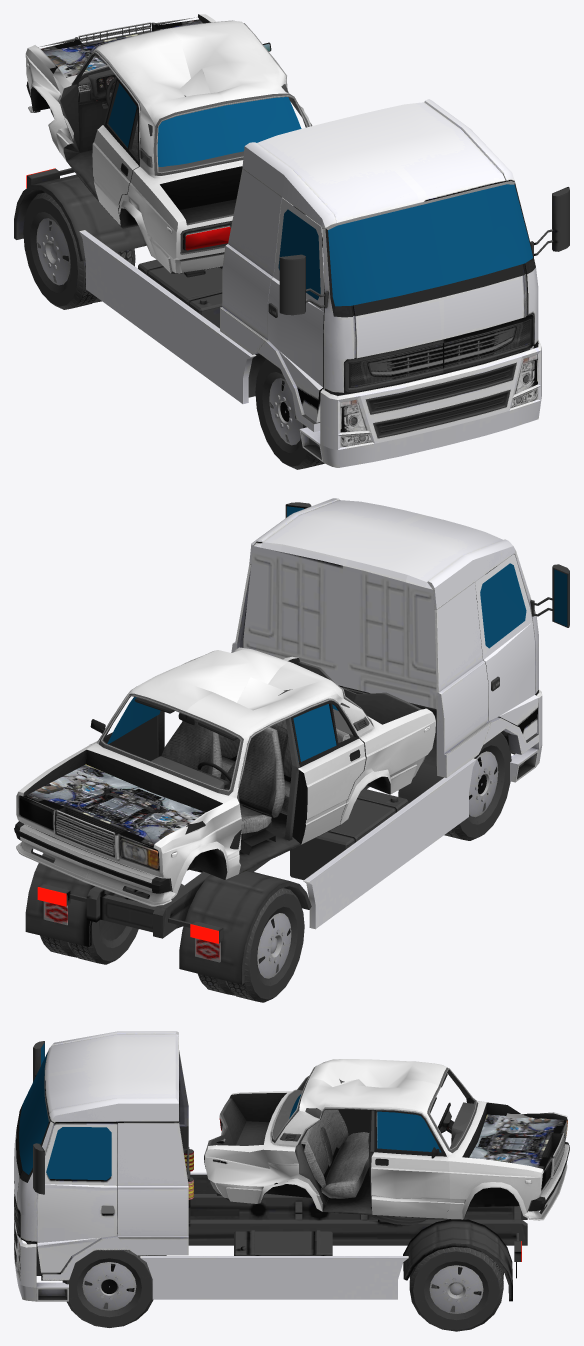
Rendered from Car29.fbx.
3 renders of one model, top to bottom at view 1: azimuth 30°, elevation 25°; view 2: azimuth 150°, elevation 25°; view 3: azimuth 270°, elevation 25°, orthographic. The views are drawn at different scales.
Parts seen in each view (by area): view 1: Body, Roof, Body_1, Front_Glass_, BumperFront, Roof_1, Truck_2_SidePanel_1_R, _Glass_Back, Truck_2_Door_FR_1, Wing_1, Tire_2, Classic_1_Door_RB (+13 smaller); view 2: Body_1, Beck, Body, Roof, Roof_1, Truck_2_SidePanel_1_R, Oldie_Dashboard, Wing_1, Truck_2_Door_FR_1, Classic_1_Door_RB, BumperF_1, Tire_2 (+14 smaller); view 3: Body, Body_1, Roof, Truck_2_SidePanel_1_R__1_, Roof_1, Truck_2_Door_FR, Door, Oldie_Dashboard, Tire, Tire_1, Wing, Truck_2_Door_Window_FR (+11 smaller).
Part boxes in pixels (x1=…): Body: x1=27, y1=168, x2=538, y2=432; Roof: x1=242, y1=99, x2=514, y2=229; Body_1: x1=25, y1=14, x2=243, y2=273; Front_Glass_: x1=328, y1=184, x2=533, y2=306; BumperFront: x1=299, y1=339, x2=541, y2=467; Roof_1: x1=73, y1=20, x2=312, y2=175; Truck_2_SidePanel_1_R: x1=79, y1=230, x2=256, y2=403; _Glass_Back: x1=157, y1=97, x2=301, y2=166; Truck_2_Door_FR_1: x1=267, y1=197, x2=324, y2=422; Wing_1: x1=14, y1=174, x2=146, y2=261; Tire_2: x1=23, y1=192, x2=135, y2=309; Classic_1_Door_RB: x1=92, y1=78, x2=139, y2=225; Body_1: x1=16, y1=656, x2=435, y2=898; Beck: x1=243, y1=546, x2=436, y2=709; Body: x1=38, y1=551, x2=538, y2=962; Roof: x1=249, y1=498, x2=515, y2=609; Roof_1: x1=99, y1=647, x2=372, y2=793; Truck_2_SidePanel_1_R: x1=303, y1=758, x2=476, y2=929; Oldie_Dashboard: x1=134, y1=698, x2=350, y2=854; Wing_1: x1=179, y1=870, x2=311, y2=984; Truck_2_Door_FR_1: x1=475, y1=554, x2=538, y2=740; Classic_1_Door_RB: x1=291, y1=700, x2=365, y2=844; BumperF_1: x1=14, y1=821, x2=171, y2=906; Tire_2: x1=198, y1=888, x2=304, y2=1002; Body: x1=14, y1=1050, x2=527, y2=1293; Body_1: x1=204, y1=1089, x2=567, y2=1219; Roof: x1=44, y1=1031, x2=178, y2=1122; Truck_2_SidePanel_1_R__1_: x1=140, y1=1256, x2=408, y2=1299; Roof_1: x1=274, y1=1059, x2=473, y2=1153; Truck_2_Door_FR: x1=37, y1=1122, x2=117, y2=1272; Door: x1=371, y1=1110, x2=450, y2=1218; Oldie_Dashboard: x1=301, y1=1073, x2=473, y2=1198; Tire: x1=409, y1=1247, x2=503, y2=1331; Tire_1: x1=62, y1=1250, x2=153, y2=1327; Wing: x1=403, y1=1219, x2=512, y2=1301; Truck_2_Door_Window_FR: x1=46, y1=1127, x2=111, y2=1180.
Size of the model in its own units: 445 by 430 by 948.
